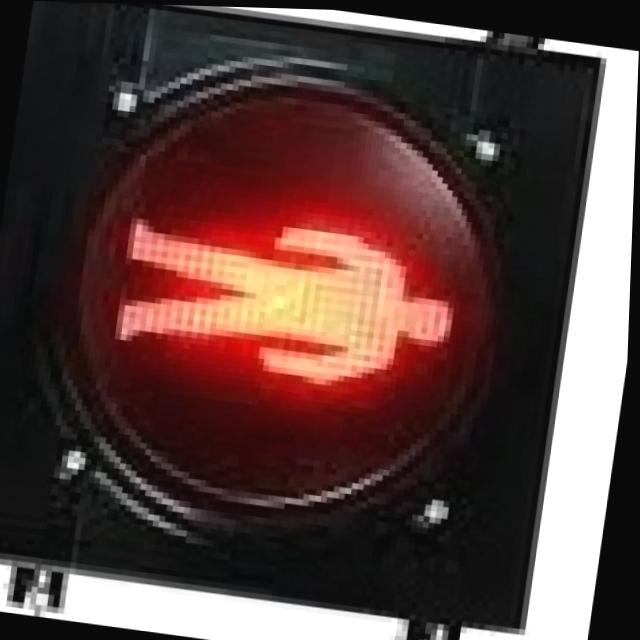red_light: (100, 174, 491, 406)
